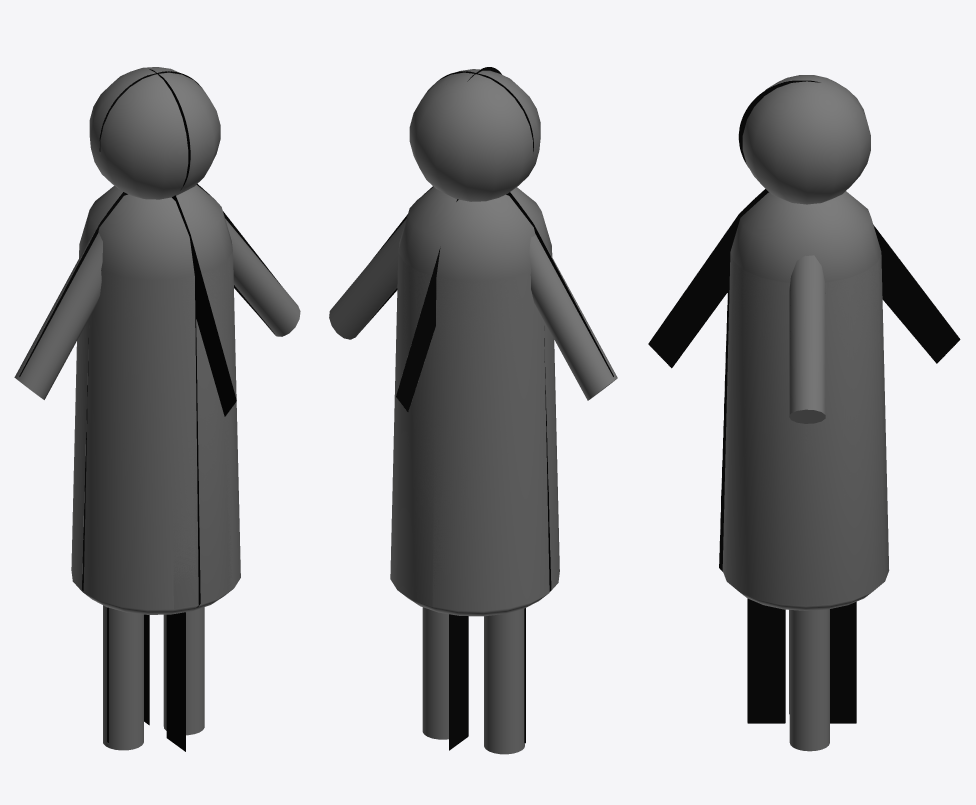
File: P_Man.fbx
The picture shows the model from 3 angles, left to right: view 1: azimuth 30°, elevation 25°; view 2: azimuth 150°, elevation 25°; view 3: azimuth 270°, elevation 25°; orthographic projection. The views are drawn at different scales.
Parts seen in each view (by area): view 1: hp_man1, mp_man1, bboard_man1; view 2: hp_man1, mp_man1, bboard_man1; view 3: mp_man1, hp_man1, bboard_man1.
Part boxes in pixels (x1,y1,x2,y2): hp_man1: [14, 67, 300, 750]; mp_man1: [16, 218, 298, 608]; bboard_man1: [19, 69, 284, 751]; hp_man1: [329, 69, 617, 754]; mp_man1: [329, 219, 613, 606]; bboard_man1: [362, 67, 613, 750]; mp_man1: [722, 252, 889, 605]; hp_man1: [723, 75, 888, 751]; bboard_man1: [648, 80, 960, 723].
Size of the model in its own units: 71.5 by 161 by 71.
